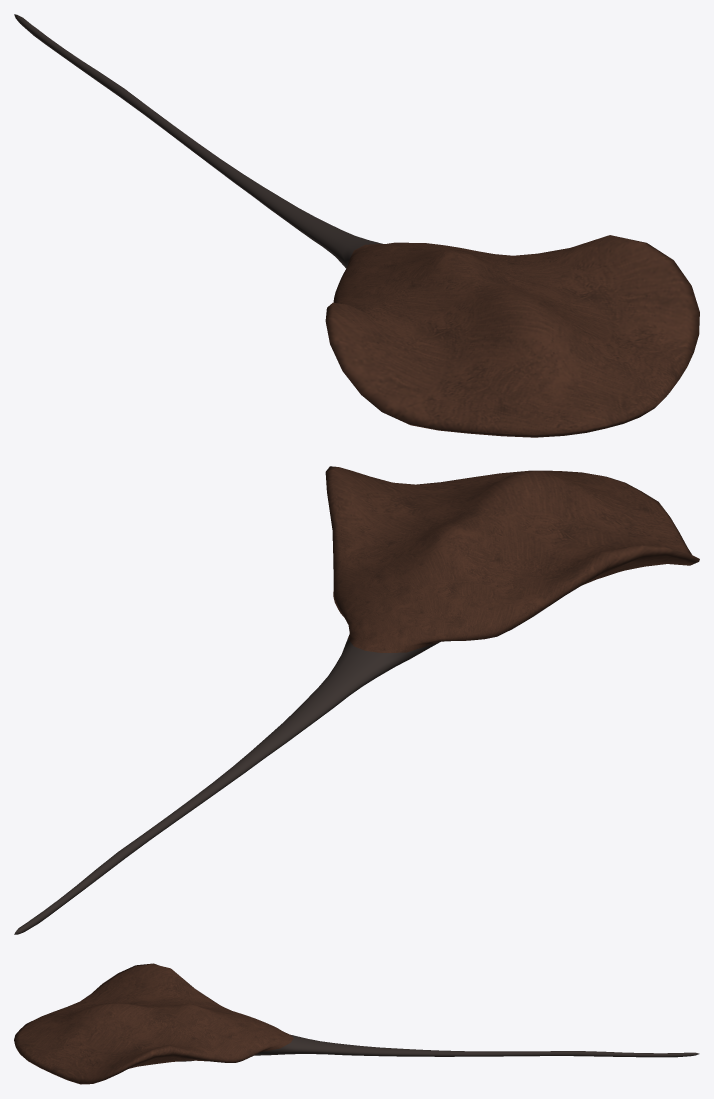
The picture shows the model from 3 angles, top to bottom: view 1: azimuth 30°, elevation 25°; view 2: azimuth 150°, elevation 25°; view 3: azimuth 270°, elevation 25°; orthographic projection. The views are drawn at different scales.
Visible parts, largest first — view 1: Mountainray; view 2: Mountainray; view 3: Mountainray.
Boxes of the visible parts, left/top/right/bottom form: Mountainray: left=14, top=14, right=699, bottom=437; Mountainray: left=14, top=466, right=699, bottom=934; Mountainray: left=14, top=963, right=699, bottom=1084.
Size of the model in its own units: 8.13 by 2.1 by 23.9.
1 material, 1 textured.
